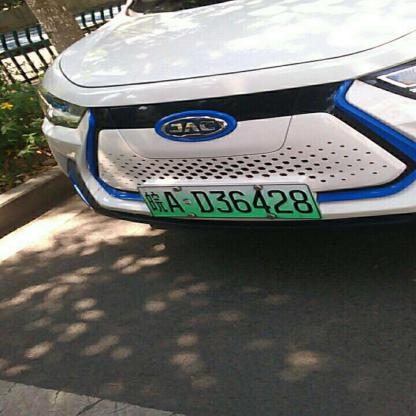lp: (137, 185, 320, 217)
